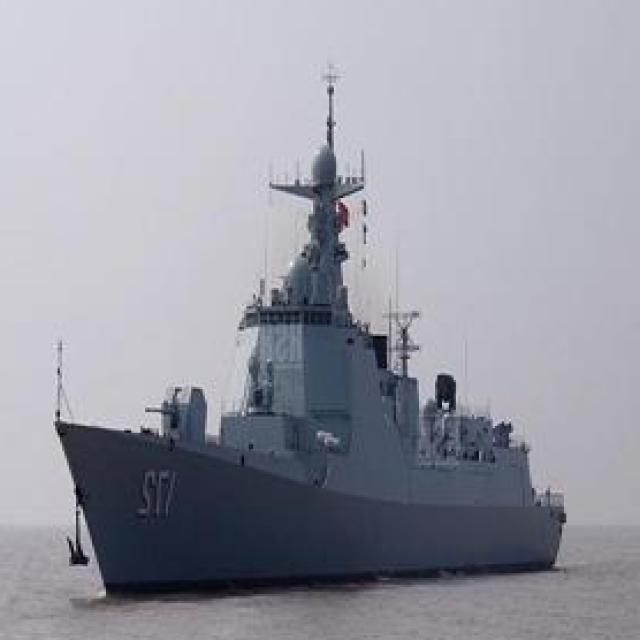navalvessels: (50, 68, 566, 604)
